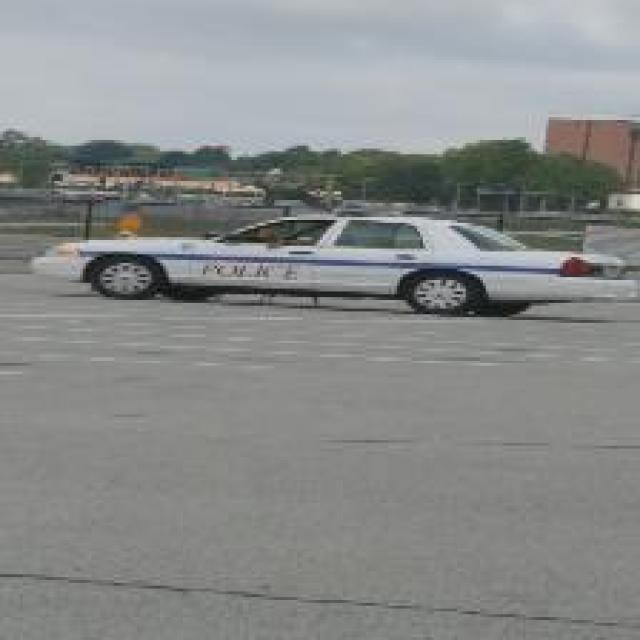Police-car: (29, 206, 637, 317)
